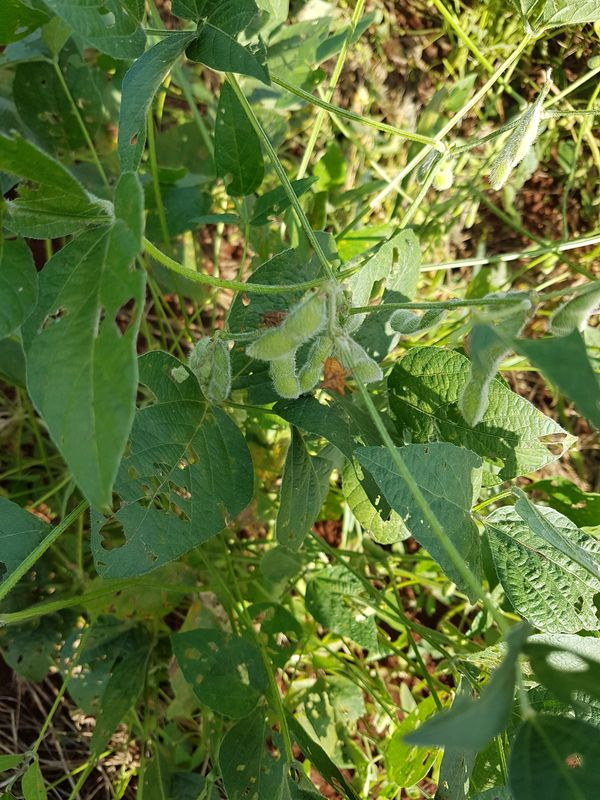Euschistus_heros_adulto: (314, 354, 358, 401), (252, 303, 294, 336)
